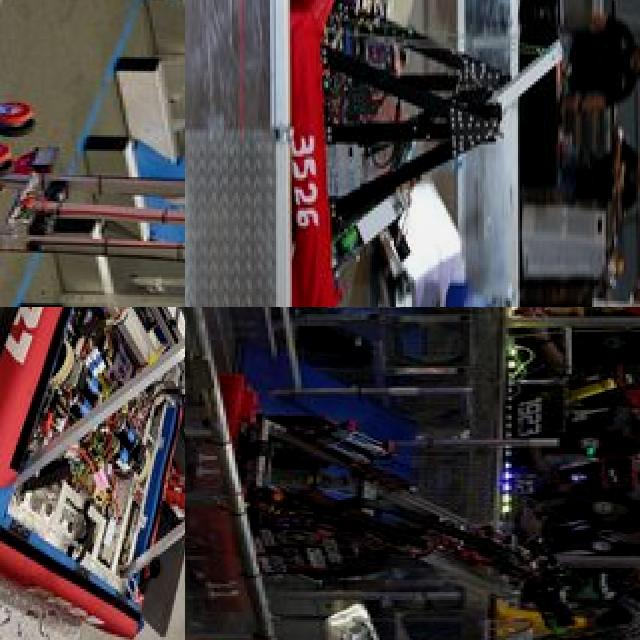FRC-Robots: (186, 395, 584, 635), (272, 0, 578, 307), (0, 307, 185, 640), (0, 51, 185, 307)
